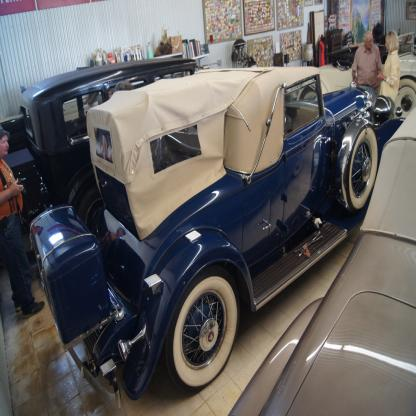Car: (33, 64, 408, 415), (229, 103, 416, 416), (18, 55, 204, 240), (297, 44, 416, 119)
